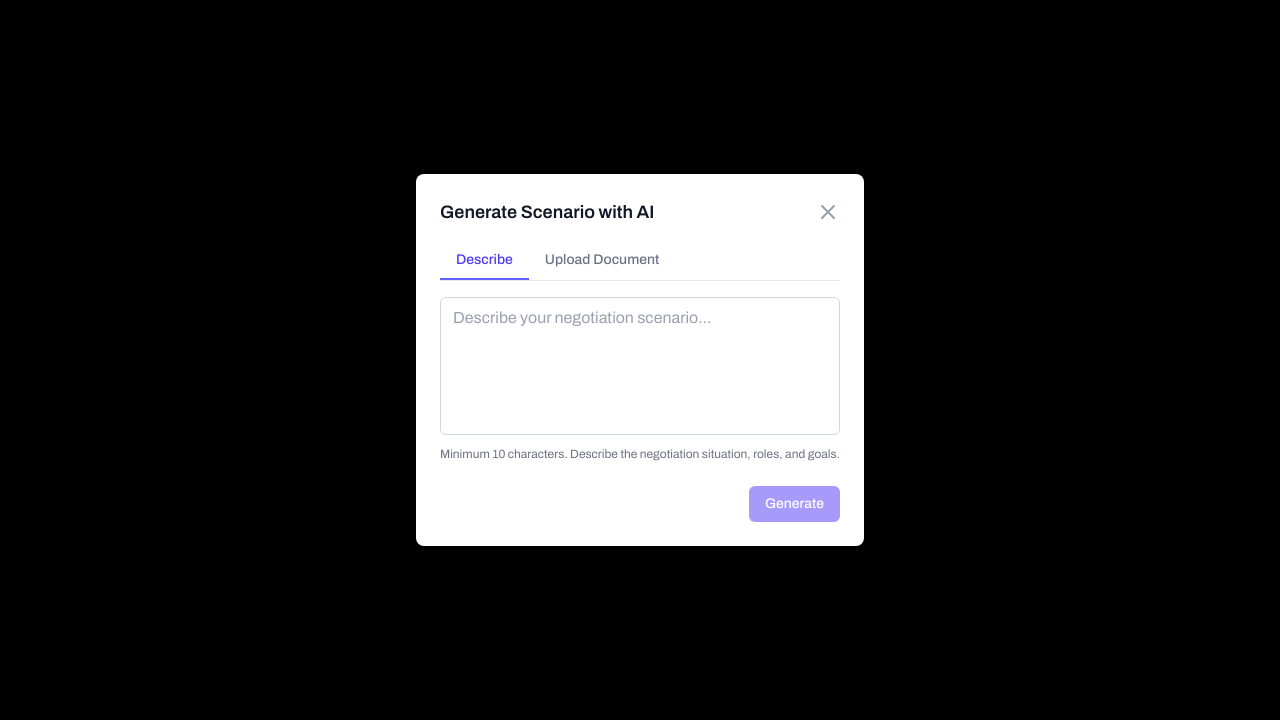
Test: GenerateScenarioModal › shows loading state during generation
Type "A test scenario description" into the text box with test id "description-input" at coordinates (640, 366), box [440,297,840,435]
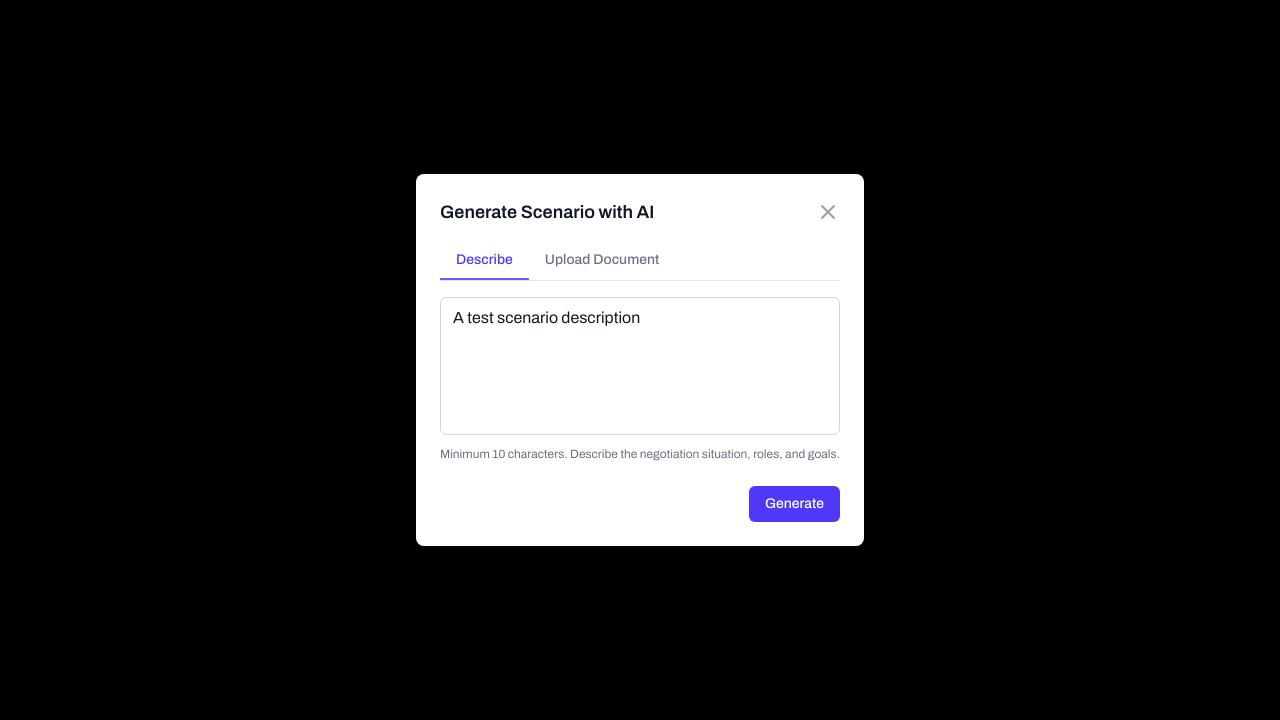
Click the button with test id "generate-button" at coordinates (794, 504), box [749,486,840,522]
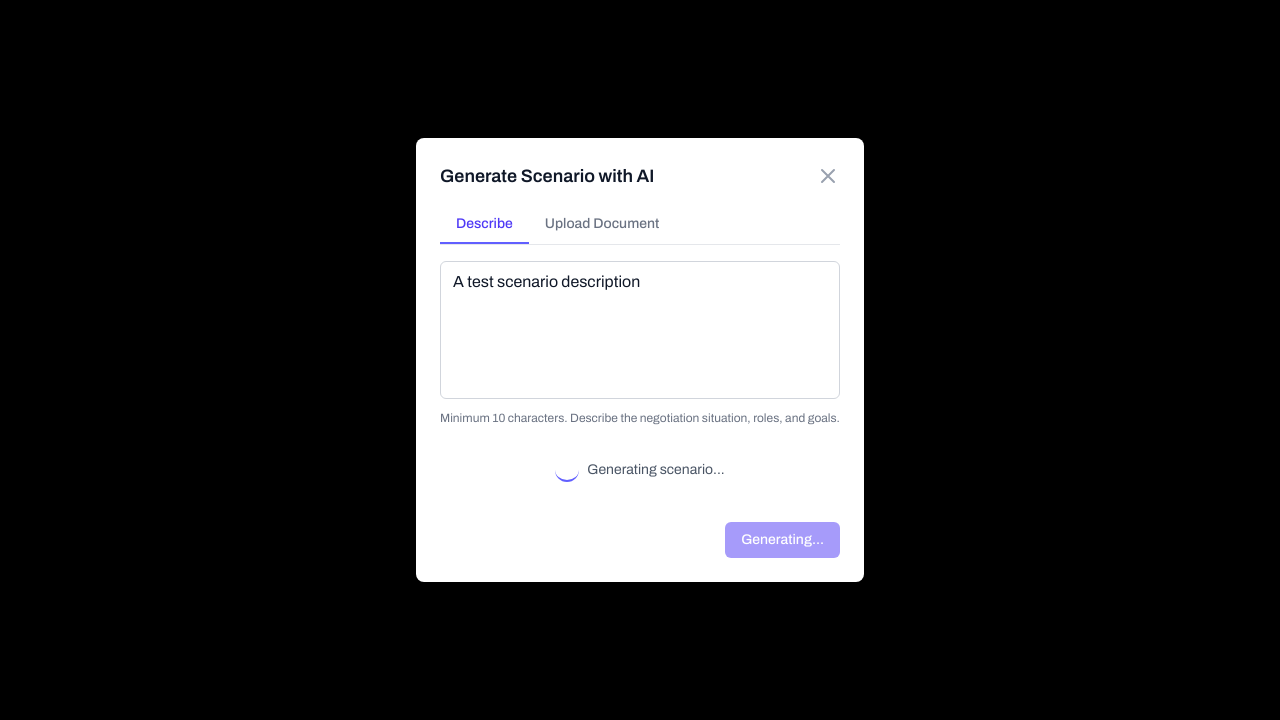
Expected: the element with test id "loading-state" is shown, [555,458,725,482]
